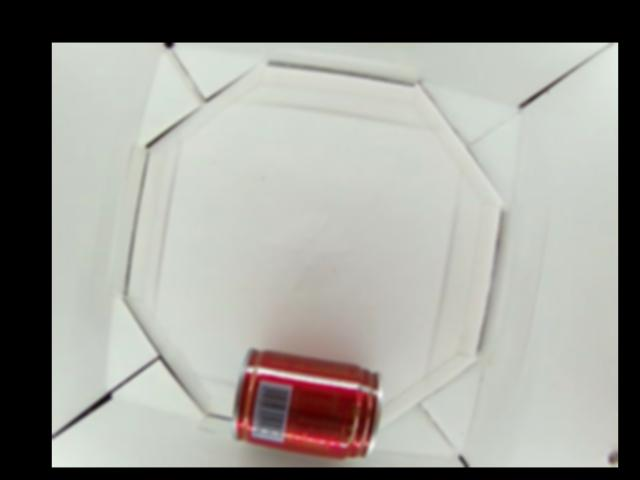Bottle: (231, 348, 378, 460)
